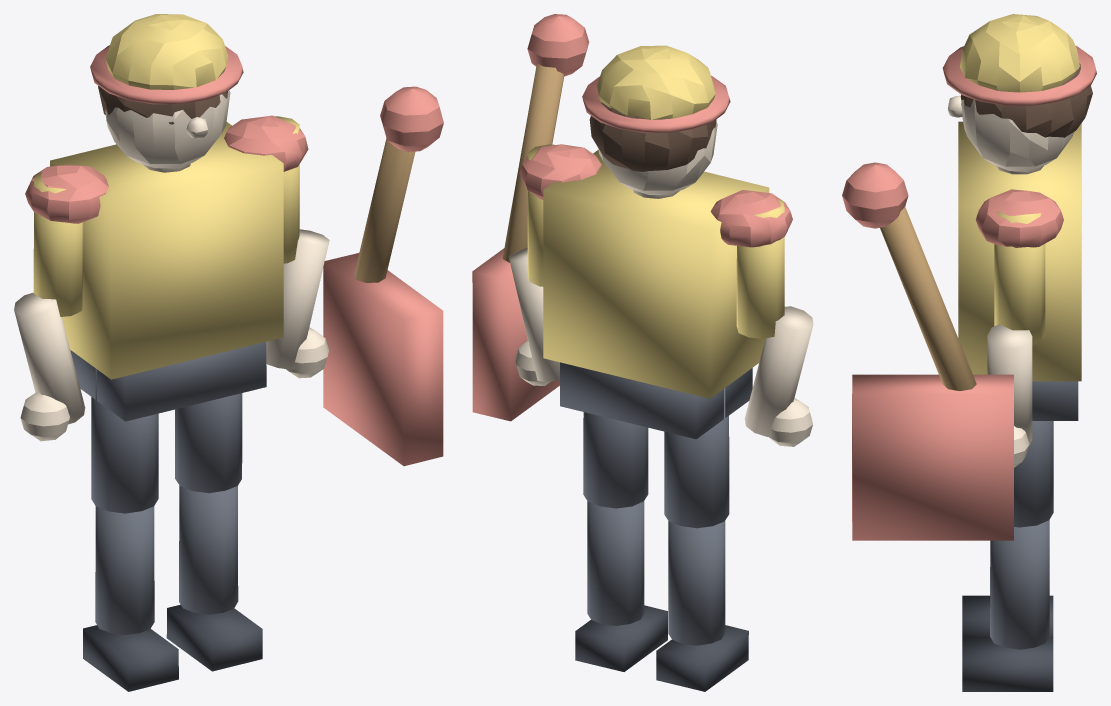
File: SM_Leonidas_LOD2.fbx
3 views of the same model, side by side, from view 1: azimuth 30°, elevation 25°; view 2: azimuth 150°, elevation 25°; view 3: azimuth 270°, elevation 25° (orthographic). The views are drawn at different scales.
Parts seen in each view (by area): view 1: SM_Leonidas_LOD2; view 2: SM_Leonidas_LOD2; view 3: SM_Leonidas_LOD2.
Boxes of the visible parts, x1,y1,x2,y2 form: SM_Leonidas_LOD2: [14, 14, 443, 691]; SM_Leonidas_LOD2: [472, 14, 813, 691]; SM_Leonidas_LOD2: [842, 14, 1096, 691].
Bounding box in the file's own units: 0.8575 × 1.46 × 0.5287.
